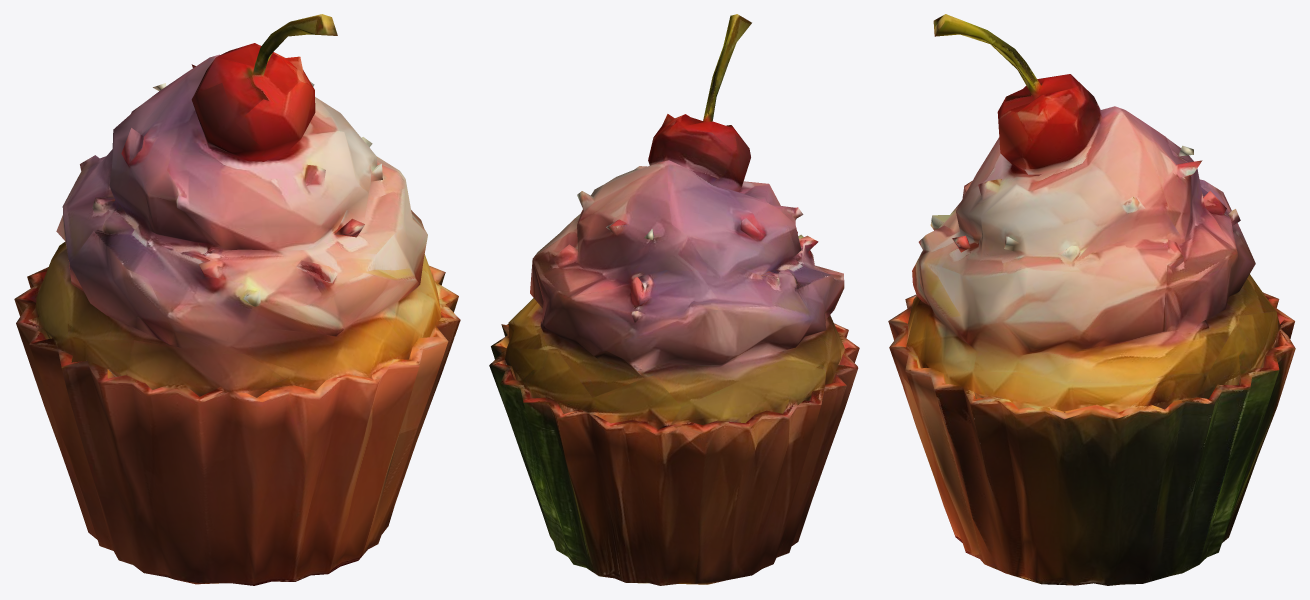
The model's file is item-cupcake-cbbf380f.glb.
The picture shows the model from 3 angles, left to right: view 1: azimuth 30°, elevation 25°; view 2: azimuth 150°, elevation 25°; view 3: azimuth 270°, elevation 25°; orthographic projection. The views are drawn at different scales.
Parts seen in each view (by area): view 1: mvadapter_node_mvadapter; view 2: mvadapter_node_mvadapter; view 3: mvadapter_node_mvadapter.
Boxes of the visible parts, x1=… form: mvadapter_node_mvadapter: x1=14, y1=14, x2=460, y2=585; mvadapter_node_mvadapter: x1=489, y1=14, x2=859, y2=585; mvadapter_node_mvadapter: x1=888, y1=14, x2=1295, y2=585.
Bounding box in the file's own units: 1.3 × 1.88 × 1.3.
1 material, 1 textured.
